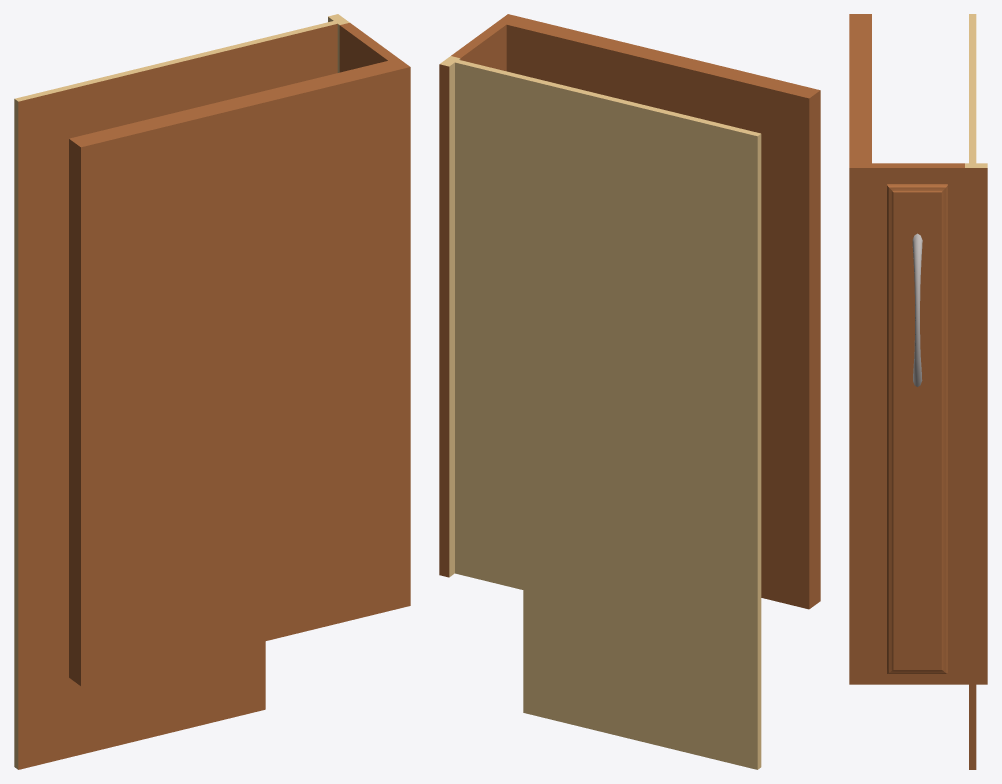
Rendered from kitchen_dishwasher_left.dae.
3 renders of one model, left to right at view 1: azimuth 30°, elevation 25°; view 2: azimuth 150°, elevation 25°; view 3: azimuth 270°, elevation 25°, orthographic. The views are drawn at different scales.
Parts seen in each view (by area): view 1: group_0, E1_10 (×2), E3_7, E2_7, group_1; view 2: E1_10, group_0, E2_7, E3_7, VS_9 (×2), group_1; view 3: DF_41_CC, group_1, group_0, VS_9, DF_41_CL, DF_41_CR, instance_14, E1_10, E3_7, DF_41_TC, E2_7.
Part boxes in pixels (x1,y1,x2,y2): group_0: [69, 58, 410, 686]; E1_10 (×2): [14, 38, 265, 640]; E3_7: [18, 628, 265, 769]; E2_7: [265, 24, 337, 90]; group_1: [339, 23, 397, 72]; E1_10: [523, 76, 761, 647]; group_0: [497, 14, 820, 609]; E2_7: [455, 59, 526, 589]; E3_7: [523, 590, 761, 769]; VS_9 (×2): [439, 56, 460, 577]; group_1: [451, 22, 506, 71]; DF_41_CC: [896, 193, 939, 669]; group_1: [872, 163, 964, 684]; group_0: [849, 14, 871, 684]; VS_9: [965, 168, 987, 684]; DF_41_CL: [887, 191, 895, 669]; DF_41_CR: [939, 191, 947, 669]; instance_14: [912, 233, 922, 386]; E1_10: [969, 14, 976, 129]; E3_7: [969, 684, 976, 769]; DF_41_TC: [896, 184, 939, 192]; E2_7: [969, 129, 976, 163].
Bounding box in the file's own units: 26.12 × 9.12 × 46.5.
